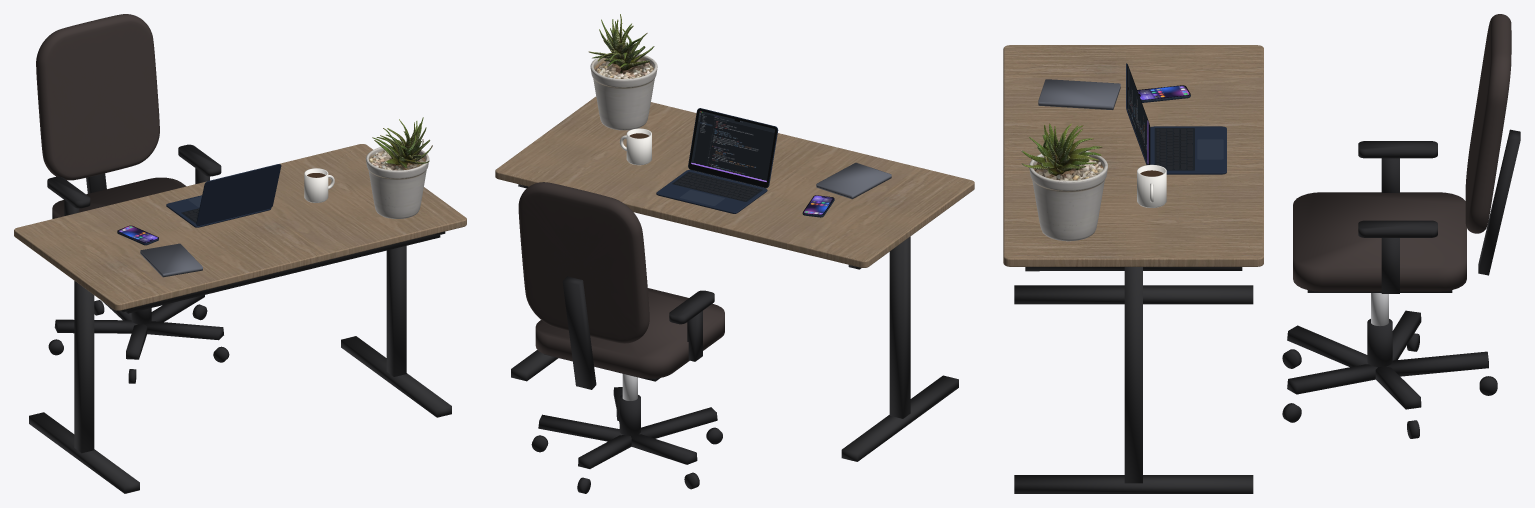
The model's file is set.glb.
The picture shows the model from 3 angles, left to right: view 1: azimuth 30°, elevation 25°; view 2: azimuth 150°, elevation 25°; view 3: azimuth 270°, elevation 25°; orthographic projection. The views are drawn at different scales.
Parts seen in each view (by area): view 1: desk_top, chair_back, leg_-1, lid_hinge, potted_plant_04_pot, leg_1, foot_-1, foot_1, chair_seat, beam, potted_plant_04_plant, notebook (+8 smaller); view 2: desk_top, chair_back, chair_seat, screen, leg_-1, potted_plant_04_pot, foot_-1, back_spine, laptop, notebook, potted_plant_04_plant, lid_hinge (+10 smaller); view 3: desk_top, chair_seat, chair_back, foot_-1, foot_1, potted_plant_04_pot, leg_1, laptop, notebook, potted_plant_04_plant, back_spine, star0 (+14 smaller).
Boxes of the visible parts, left/top/right/bottom form: desk_top: left=14, top=144, right=466, bottom=310; chair_back: left=36, top=14, right=159, bottom=180; leg_-1: left=74, top=281, right=94, bottom=453; lid_hinge: left=196, top=164, right=281, bottom=225; potted_plant_04_pot: left=366, top=145, right=429, bottom=218; leg_1: left=386, top=246, right=406, bottom=376; foot_-1: left=29, top=412, right=139, bottom=493; foot_1: left=341, top=336, right=451, bottom=417; chair_seat: left=52, top=177, right=186, bottom=218; beam: left=125, top=234, right=440, bottom=313; potted_plant_04_plant: left=372, top=117, right=432, bottom=168; notebook: left=140, top=243, right=202, bottom=277; desk_top: left=495, top=96, right=974, bottom=267; chair_back: left=518, top=182, right=649, bottom=343; chair_seat: left=535, top=288, right=724, bottom=378; screen: left=691, top=110, right=774, bottom=181; leg_-1: left=889, top=236, right=910, bottom=418; potted_plant_04_pot: left=590, top=53, right=657, bottom=130; foot_-1: left=841, top=375, right=958, bottom=461; back_spine: left=562, top=276, right=596, bottom=389; laptop: left=656, top=170, right=767, bottom=213; notebook: left=816, top=162, right=891, bottom=199; potted_plant_04_plant: left=588, top=14, right=654, bottom=72; lid_hinge: left=688, top=108, right=778, bottom=188; desk_top: left=1003, top=45, right=1263, bottom=266; chair_seat: left=1293, top=192, right=1466, bottom=291; chair_back: left=1465, top=14, right=1511, bottom=233; foot_-1: left=1014, top=285, right=1253, bottom=304; foot_1: left=1014, top=475, right=1253, bottom=493; potted_plant_04_pot: left=1029, top=151, right=1107, bottom=241; leg_1: left=1124, top=267, right=1142, bottom=483; laptop: left=1150, top=126, right=1226, bottom=174; notebook: left=1038, top=79, right=1120, bottom=109; potted_plant_04_plant: left=1021, top=123, right=1102, bottom=175; back_spine: left=1478, top=129, right=1520, bottom=275; star0: left=1386, top=351, right=1488, bottom=376.
Bounding box in the file's own units: 1.4 × 1.1 × 1.43.
21 materials, 5 textured.
